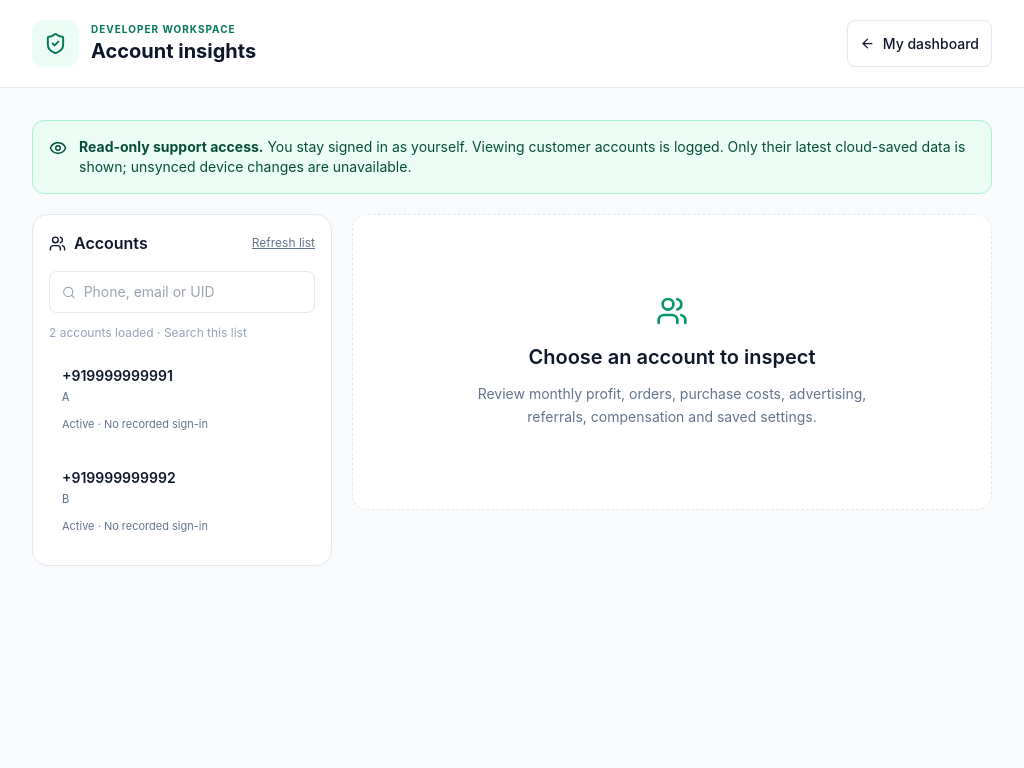
Test: does not display an old account response after a quick switch
Click the button "+919999999991 A Active · No recorded sign-in": [117, 376] box [49,353,315,447]
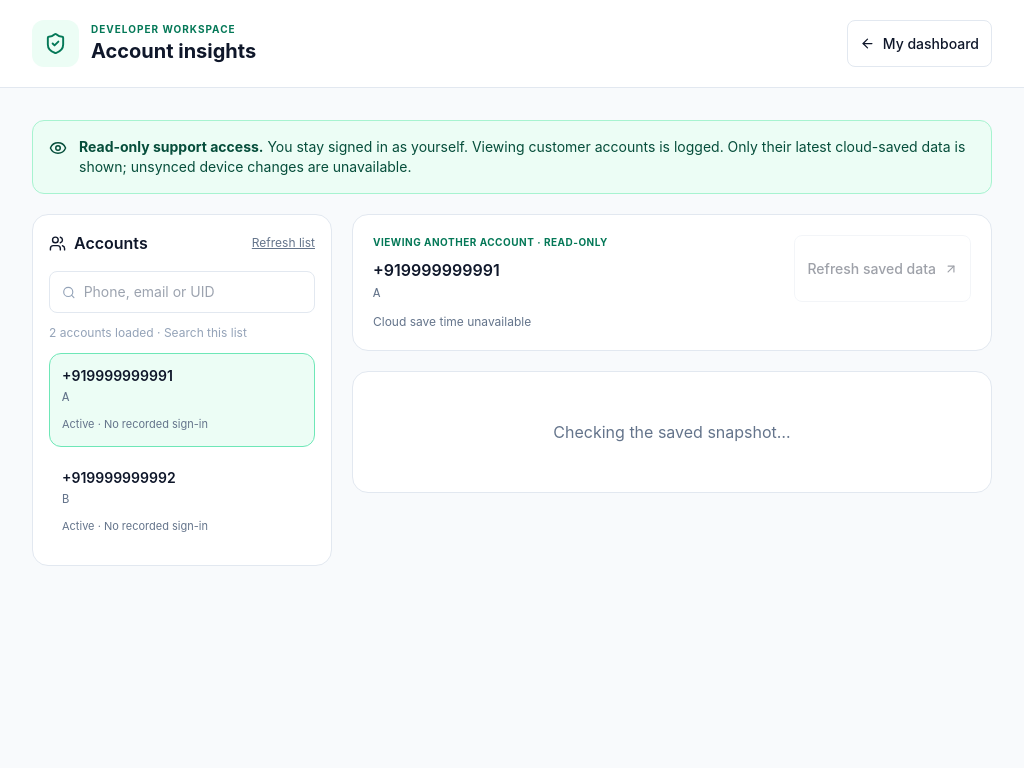
Click the button "+919999999992 B Active · No recorded sign-in": [119, 478] box [49,455,315,549]
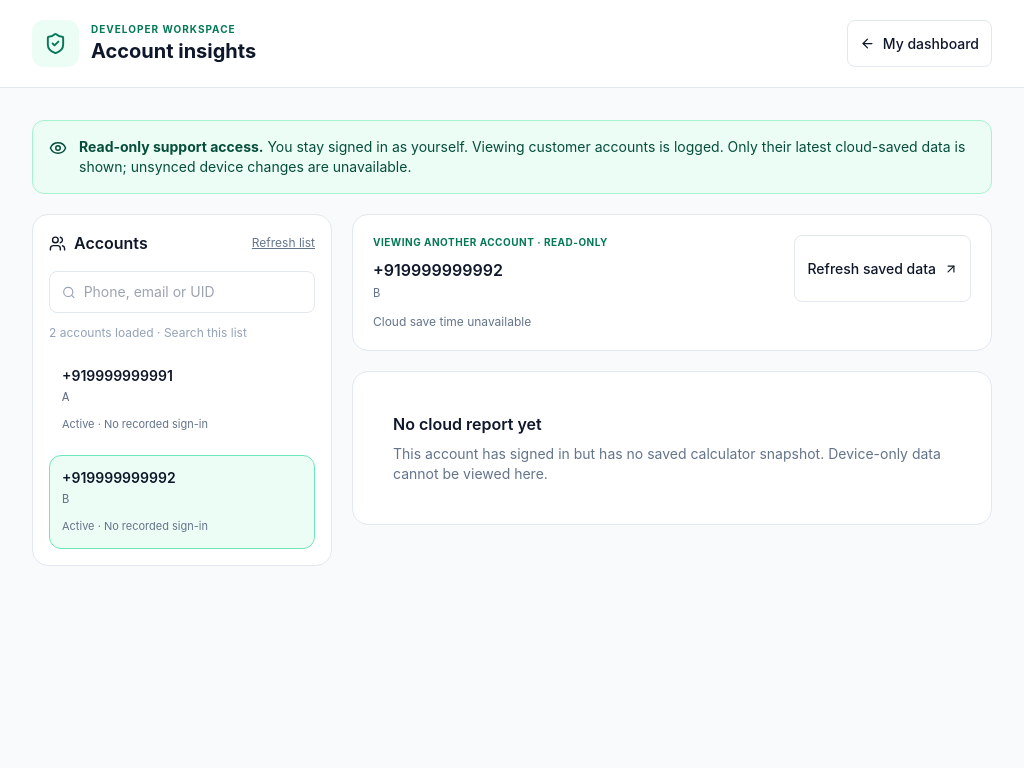
Result: the heading "No cloud report yet" is shown at [393,414,542,434]
